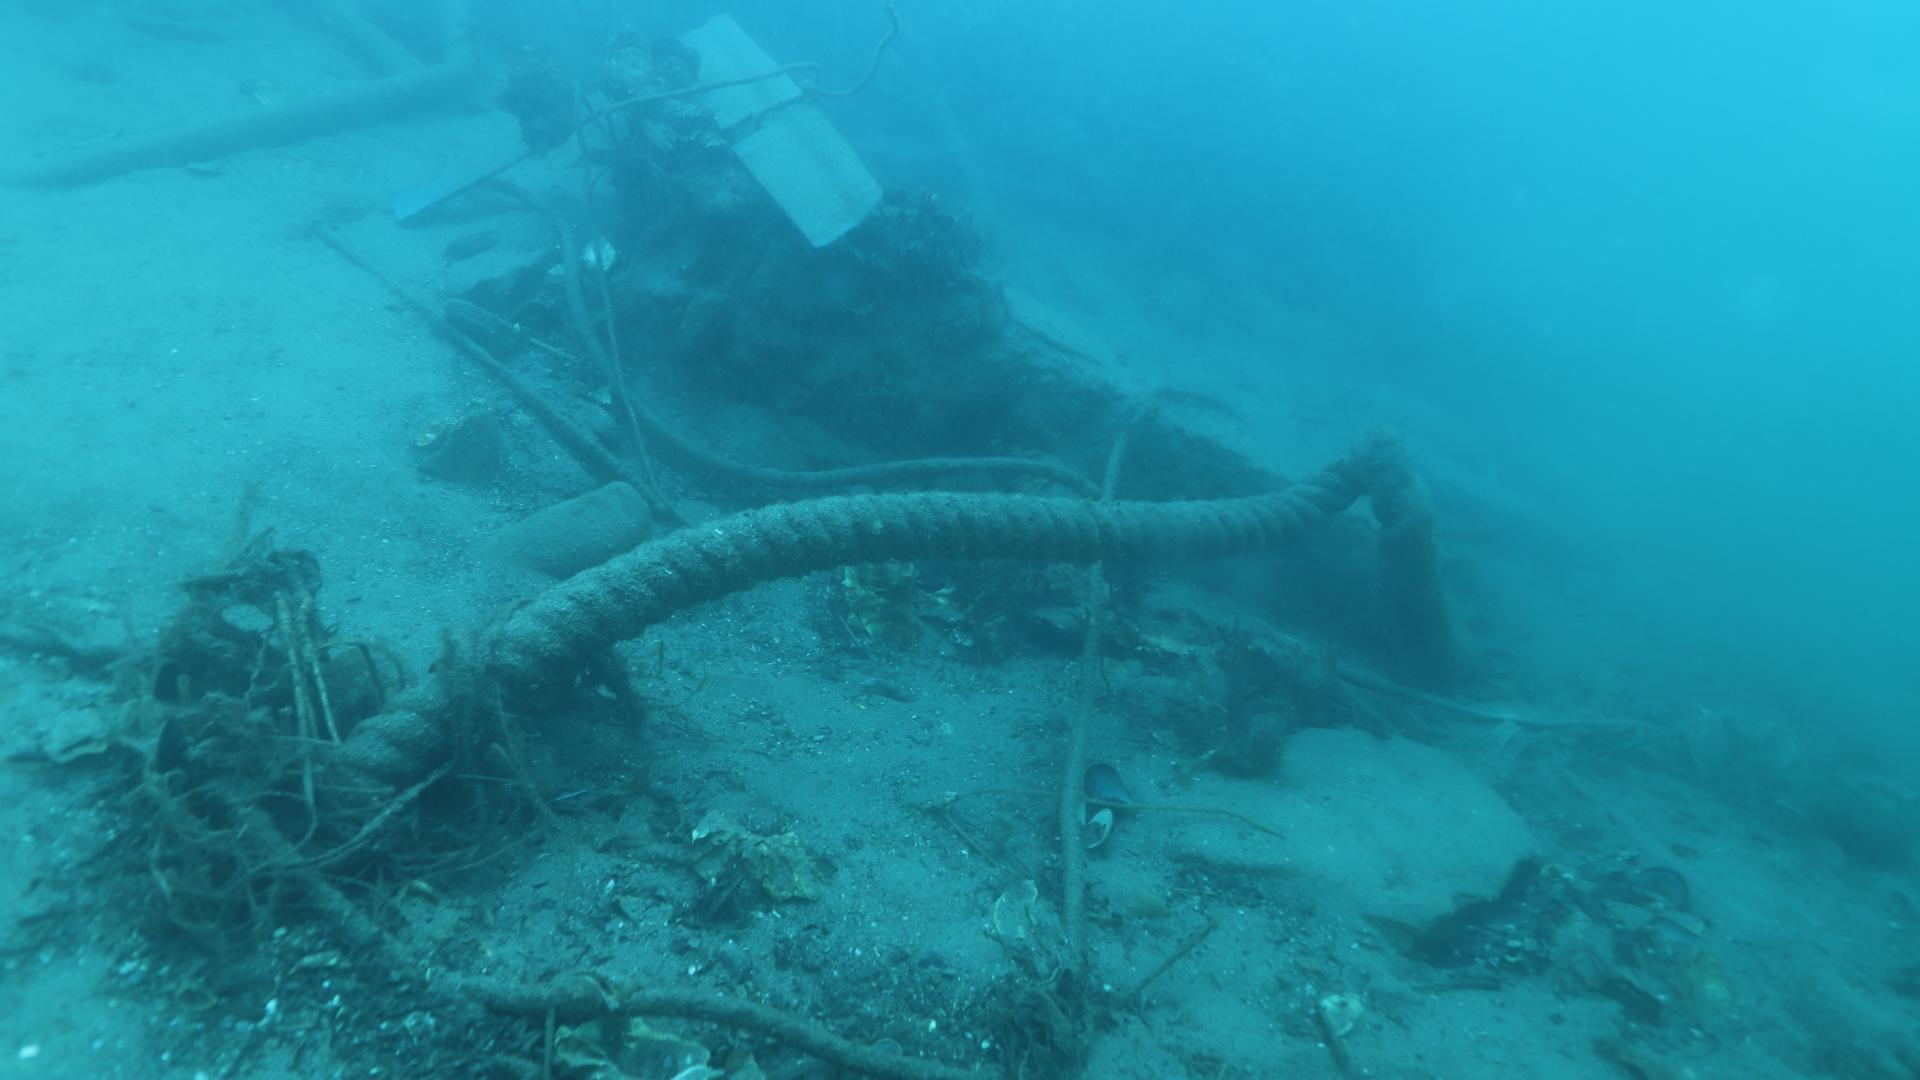rope: (331, 426, 1433, 815)
